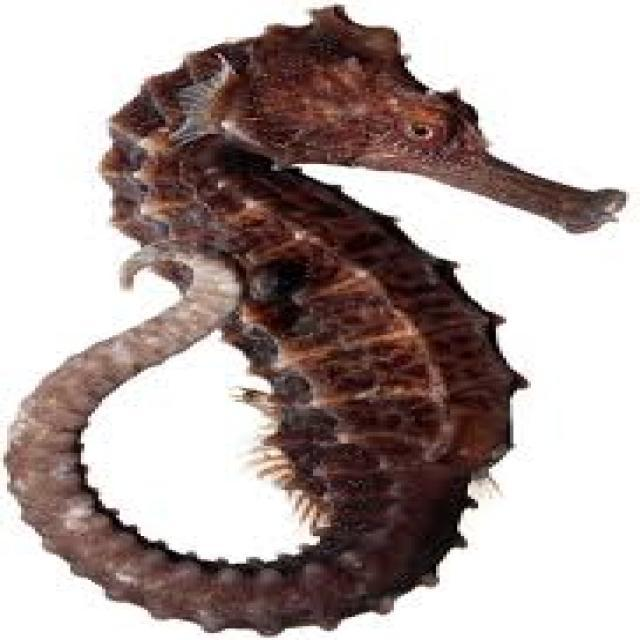SeaHorse: (3, 7, 630, 638)
